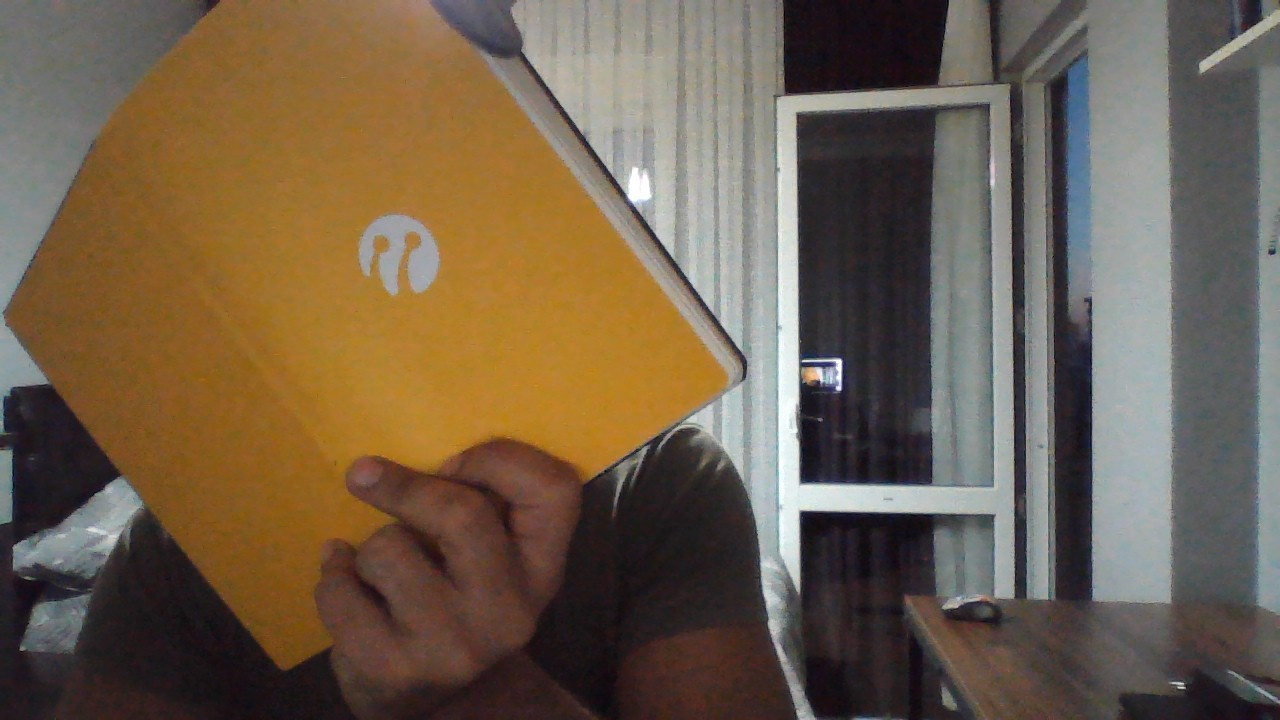turkcell: (353, 211, 444, 304)
